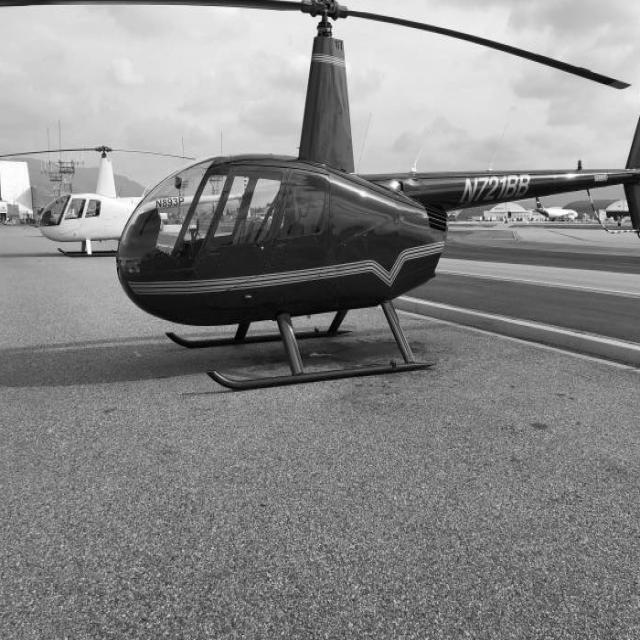helicopter: (1, 1, 640, 404)
